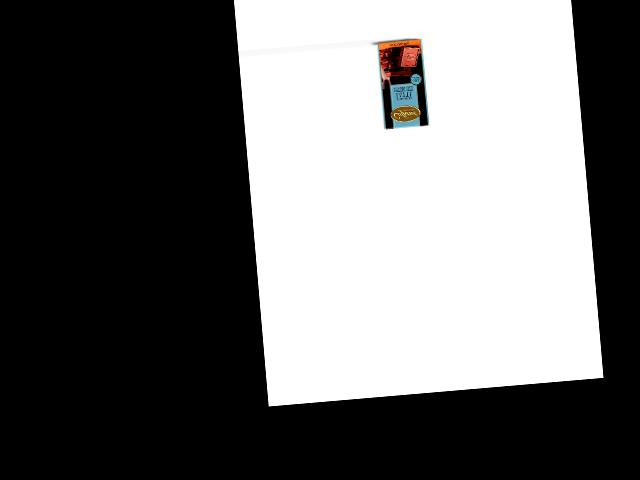chocolate: (375, 37, 430, 130)
